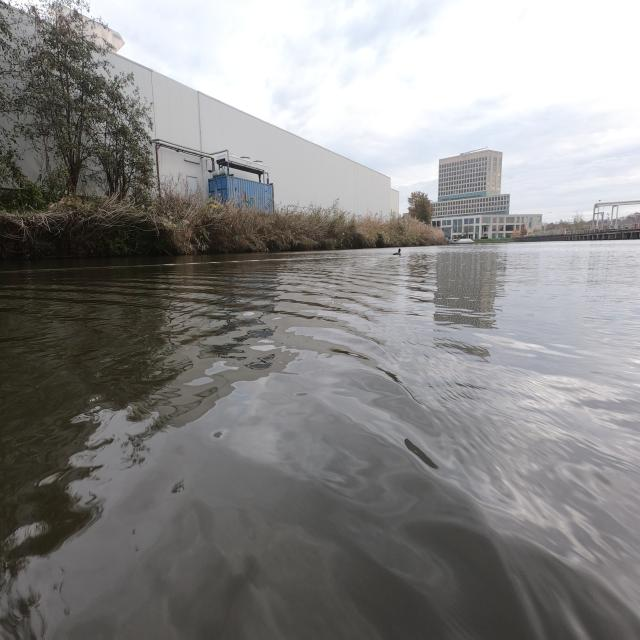boat: (456, 239, 474, 244)
reed: (0, 185, 445, 260)
sky: (90, 0, 640, 220)
tree: (1, 1, 154, 199)
wall: (516, 221, 640, 242)
water: (0, 241, 640, 640)
